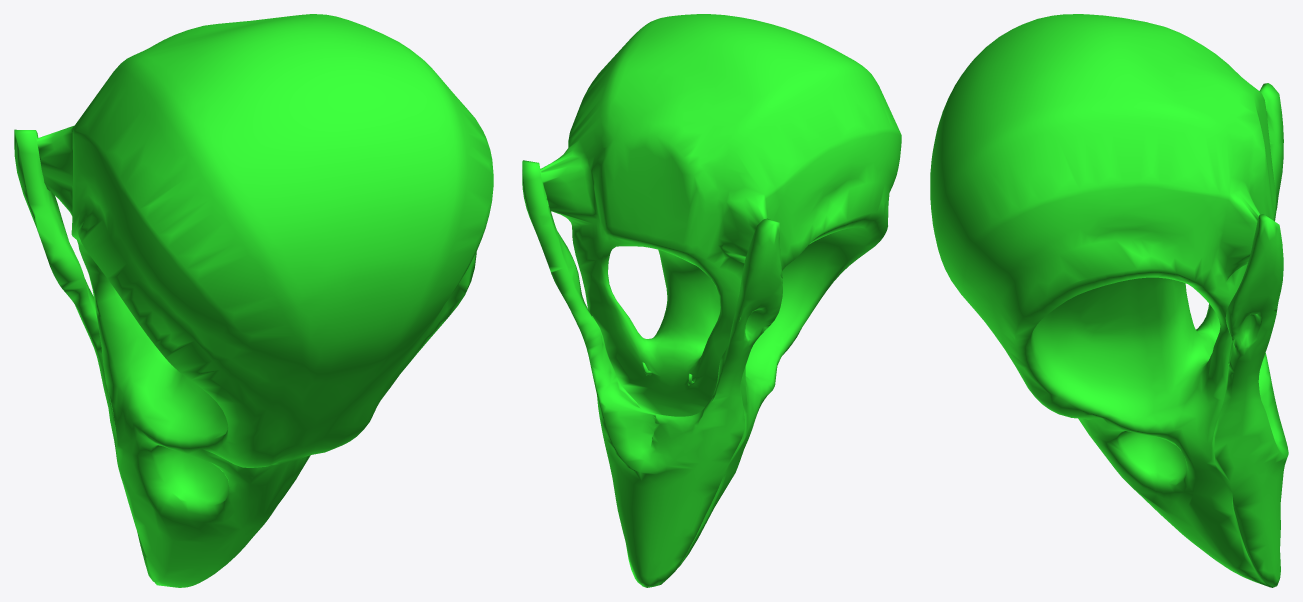
File: Birdskull.obj
The picture shows the model from 3 angles, left to right: view 1: azimuth 30°, elevation 25°; view 2: azimuth 150°, elevation 25°; view 3: azimuth 270°, elevation 25°; orthographic projection. The views are drawn at different scales.
Visible parts, largest first — view 1: Birdskull; view 2: Birdskull; view 3: Birdskull.
Boxes of the visible parts, x1,y1,x2,y2 form: Birdskull: (14,14,493,587); Birdskull: (522,14,901,587); Birdskull: (930,14,1288,587).
Size of the model in its own units: 0.5902 by 0.9937 by 0.5887.
